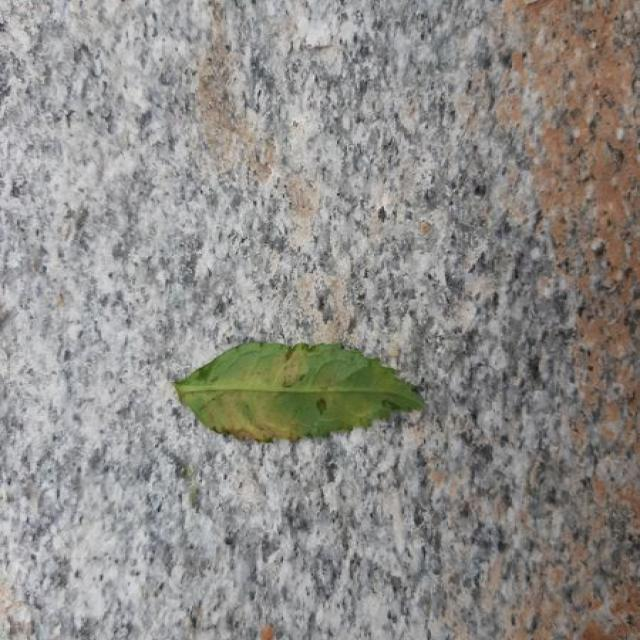leaf spot: (3, 0, 638, 640), (175, 344, 423, 442)
marigold: (175, 344, 423, 442)
